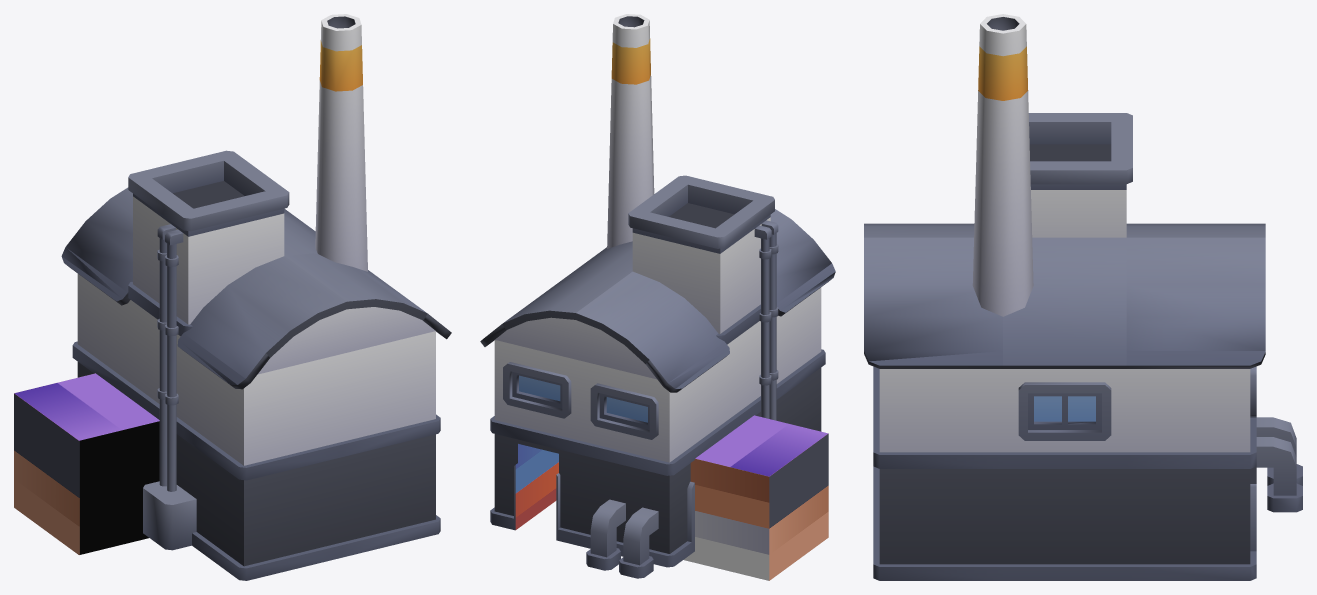
File: building-n-enterable.glb
3 views of the same model, side by side, from view 1: azimuth 30°, elevation 25°; view 2: azimuth 150°, elevation 25°; view 3: azimuth 270°, elevation 25° (orthographic). The views are drawn at different scales.
Visible parts, largest first — view 1: building-n-enterable; view 2: building-n-enterable; view 3: building-n-enterable.
Boxes of the visible parts, bbox=[...] form: building-n-enterable: bbox=[14, 14, 451, 580]; building-n-enterable: bbox=[480, 14, 835, 580]; building-n-enterable: bbox=[864, 14, 1302, 580].
Size of the model in its own units: 1.22 by 1.95 by 1.42.
Materials: 1 (1 with a texture image).
